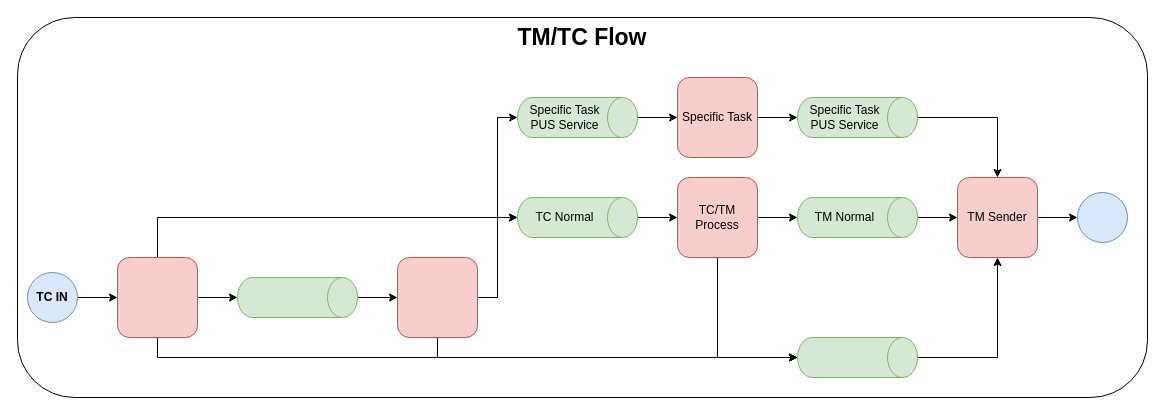
The diagram is 1165 pixels wide and 415 high, and some of its shapes have lost their labels. The shapes that lost their labels are listed below. From the top down, each one's box as (x1, y1, x2, y2) in pixels, then its label:
(1076, 192, 1128, 242): TM OUT
(116, 256, 198, 338): TC Receiver
(236, 276, 358, 318): TC PUS 11
(396, 256, 478, 338): TM/TC Scheduler
(796, 336, 918, 378): TM PUS 1
